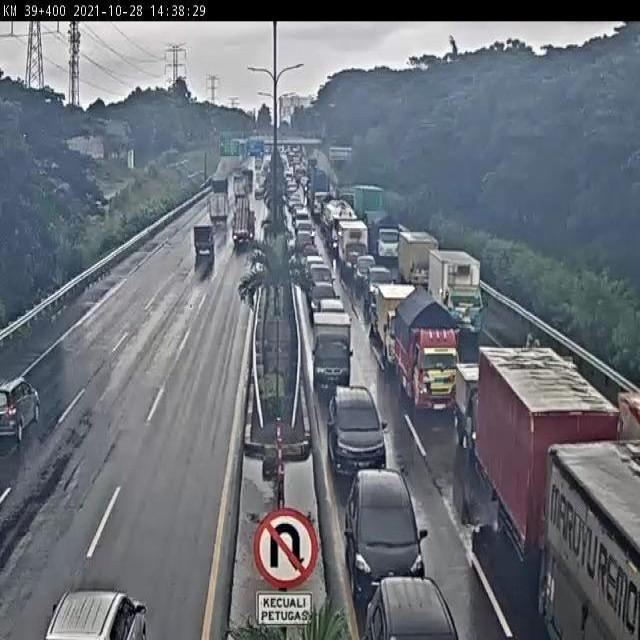big truck: (484, 356, 600, 557), (550, 444, 639, 612), (436, 257, 489, 340), (400, 236, 434, 289), (370, 224, 403, 264), (357, 188, 386, 231), (311, 170, 330, 218)
car: (351, 473, 424, 578), (38, 593, 150, 640), (330, 389, 383, 468), (0, 368, 42, 448), (314, 316, 353, 381), (374, 584, 449, 617), (457, 368, 485, 455), (193, 221, 216, 263), (368, 267, 390, 308), (311, 282, 337, 310), (308, 265, 331, 287), (357, 260, 373, 288), (298, 235, 316, 256), (294, 209, 310, 231), (289, 195, 304, 212), (284, 171, 296, 188), (287, 183, 299, 196)
small truck: (402, 292, 461, 415), (377, 285, 415, 376), (325, 200, 351, 251), (343, 223, 367, 276), (234, 199, 257, 240), (209, 188, 232, 223), (254, 171, 270, 197), (211, 169, 229, 192), (233, 171, 249, 196)
